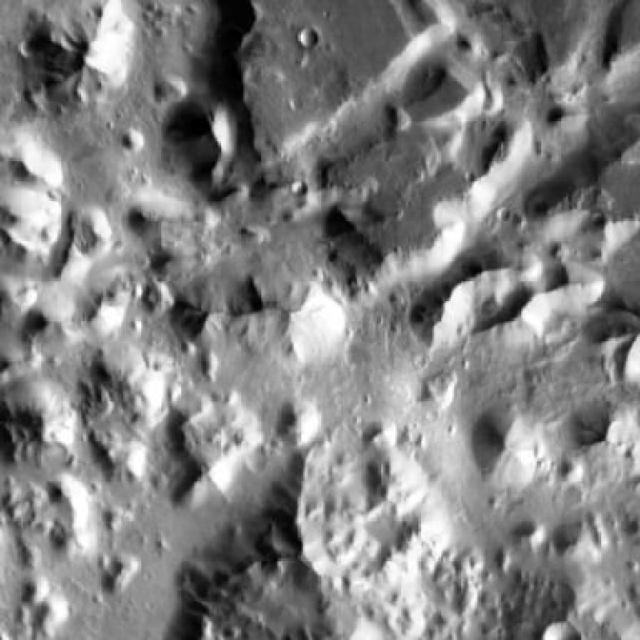crater: (297, 28, 315, 47)
